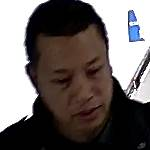qg: (21, 20, 138, 137)
